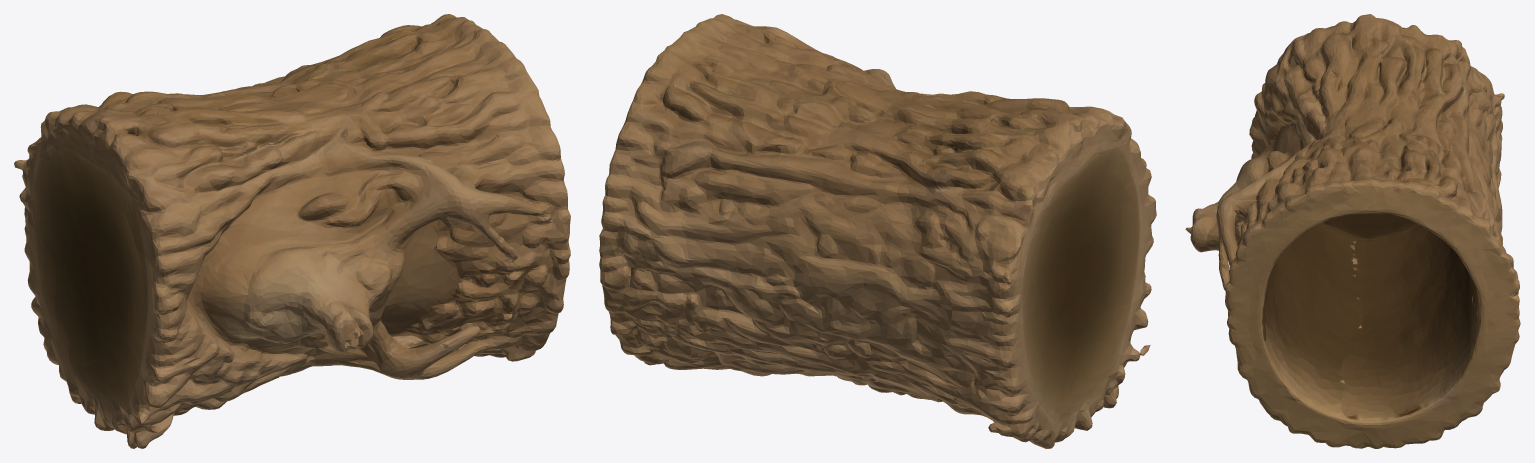
Rendered from stag-cup.glb.
3 views of the same model, side by side, from view 1: azimuth 30°, elevation 25°; view 2: azimuth 150°, elevation 25°; view 3: azimuth 270°, elevation 25° (orthographic). The views are drawn at different scales.
Visible parts, largest first — view 1: stag cup_textured.obj; view 2: stag cup_textured.obj; view 3: stag cup_textured.obj.
Boxes of the visible parts, x1,y1,x2,y2 form: stag cup_textured.obj: (14,14,570,448); stag cup_textured.obj: (599,14,1156,448); stag cup_textured.obj: (1185,14,1520,448).
Size of the model in its own units: 1.98 by 1.48 by 1.64.
1 material, 1 textured.
